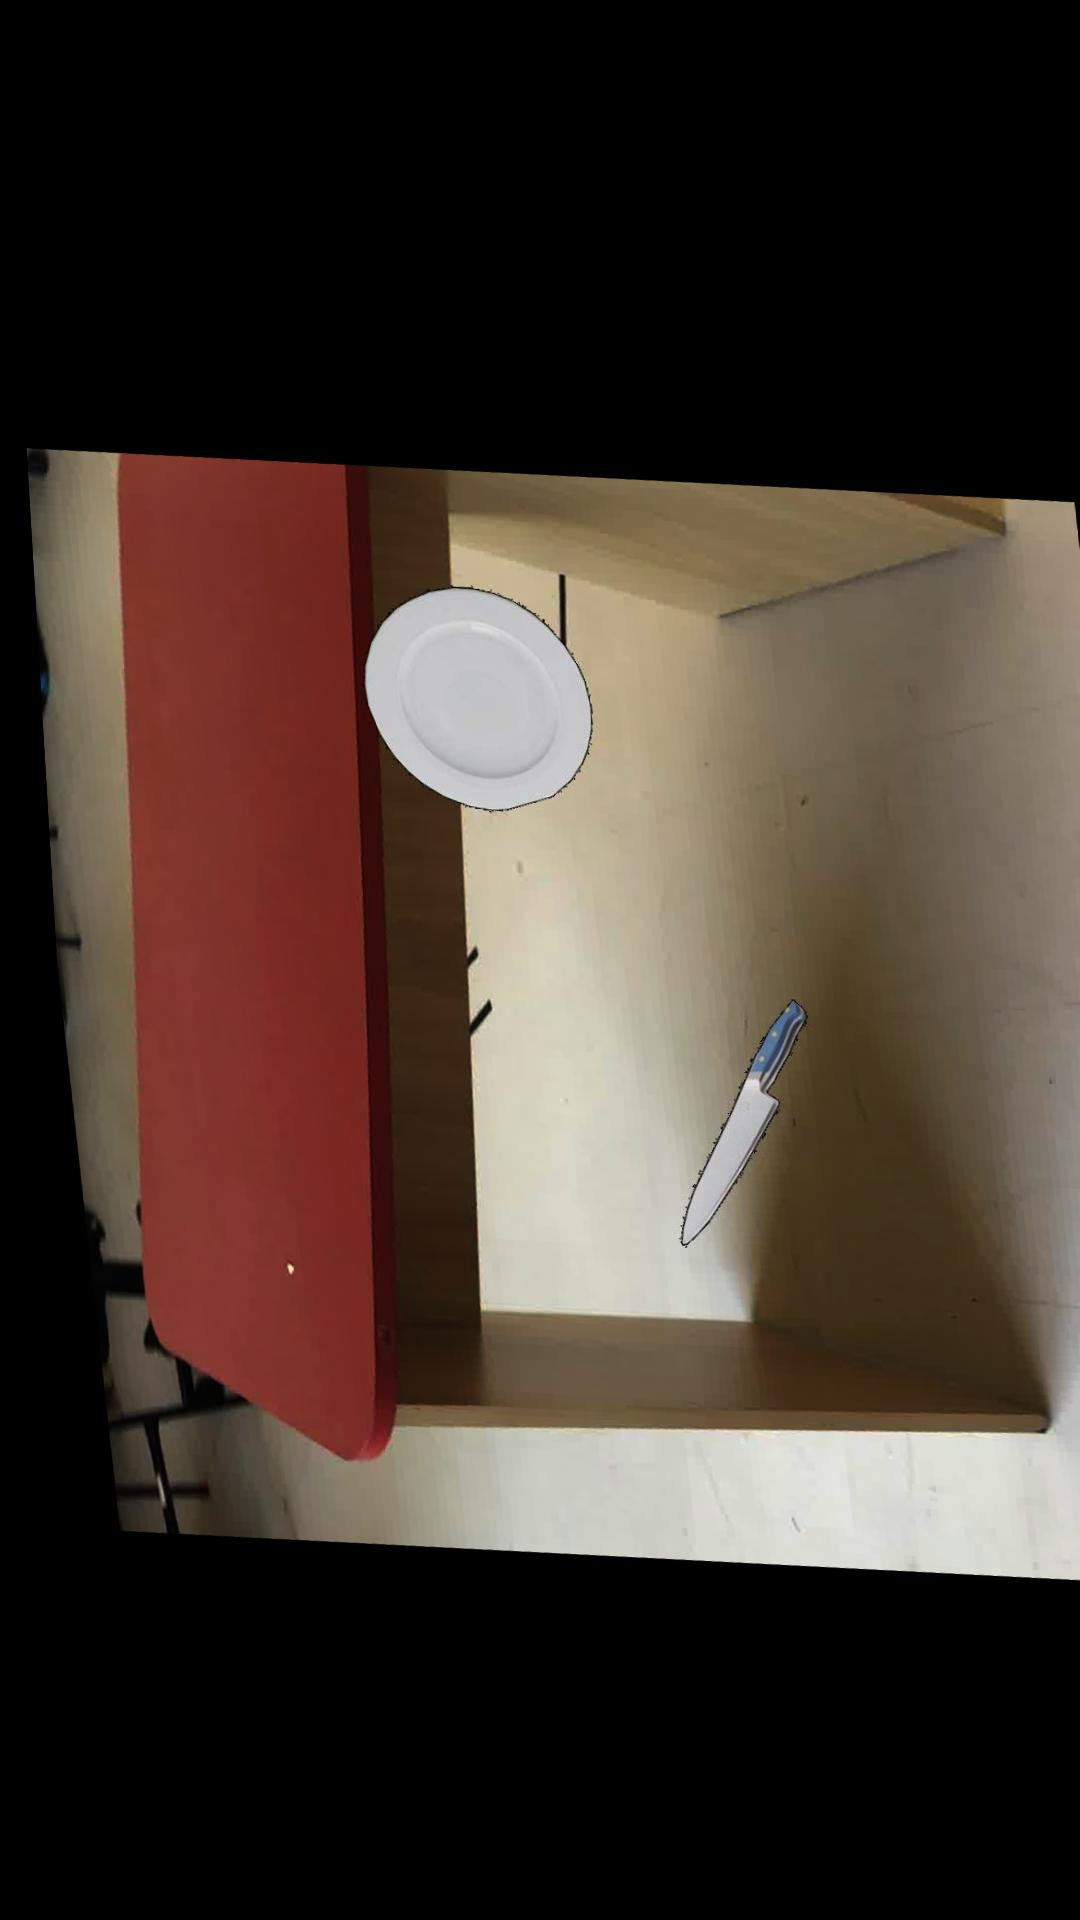knife: (663, 981, 793, 1230)
plate: (352, 575, 582, 799)
